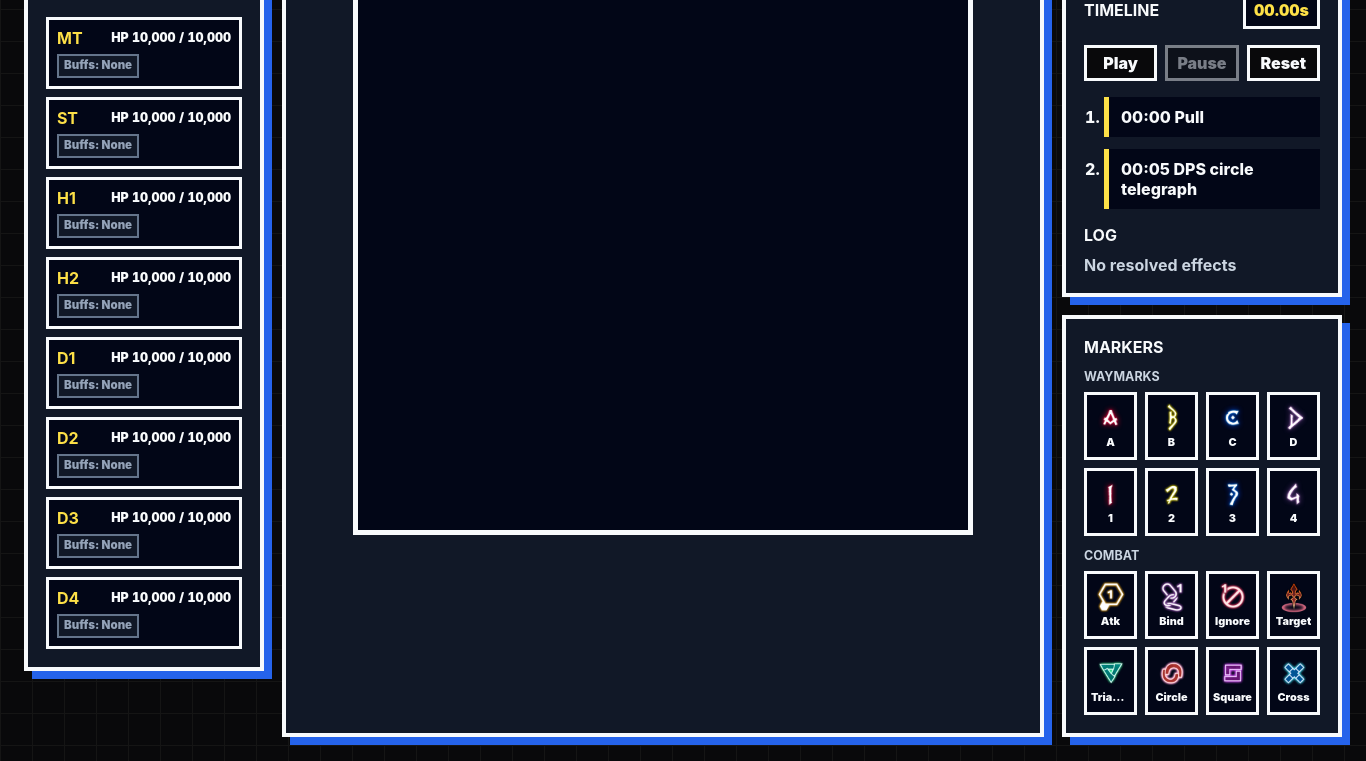
Test: App › keeps locally placed room markers through stale realtime movement snapshots
The width and height of the screenshot is (1366, 761).
(page scrolled)
Click the button "A": x=1110, y=426 [1084, 392, 1137, 460]
(page scrolled)
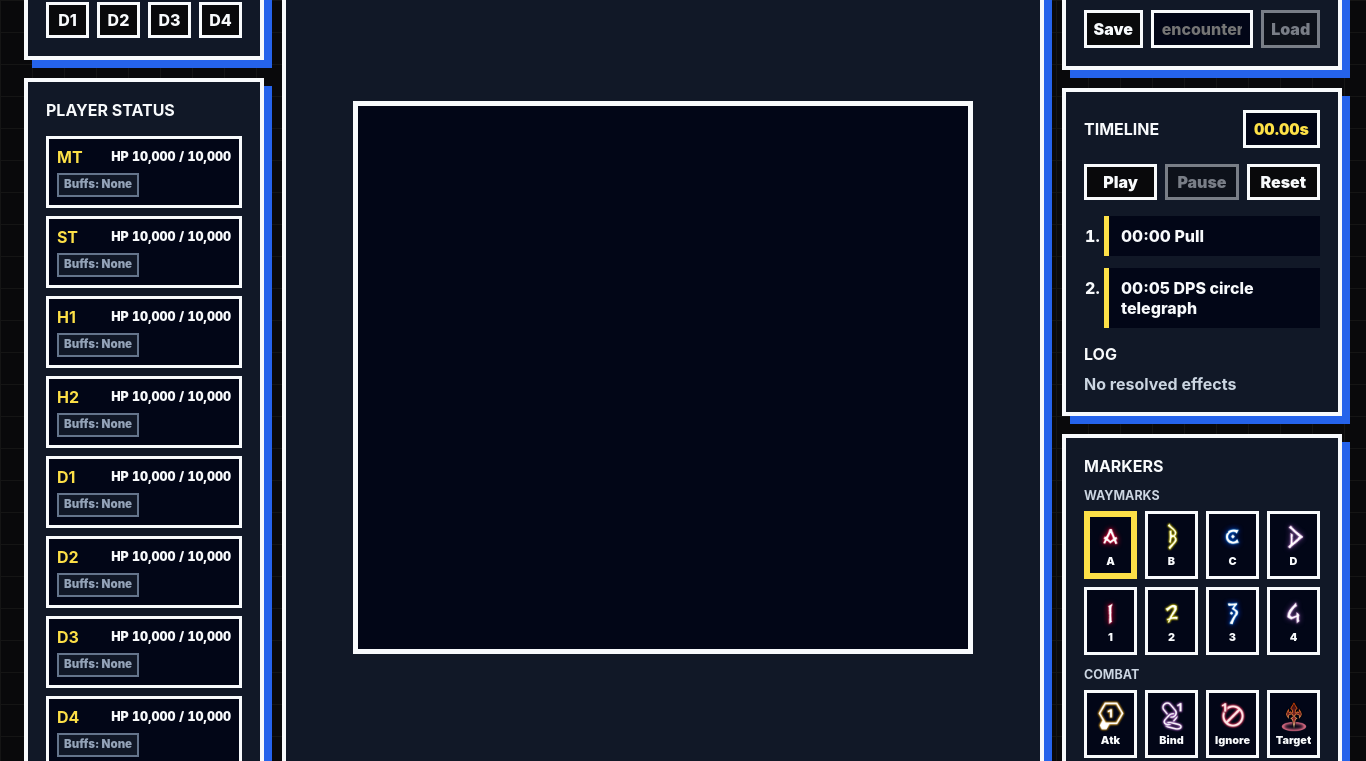
Click the drawing "Arena canvas": x=663, y=378 [353, 101, 973, 654]
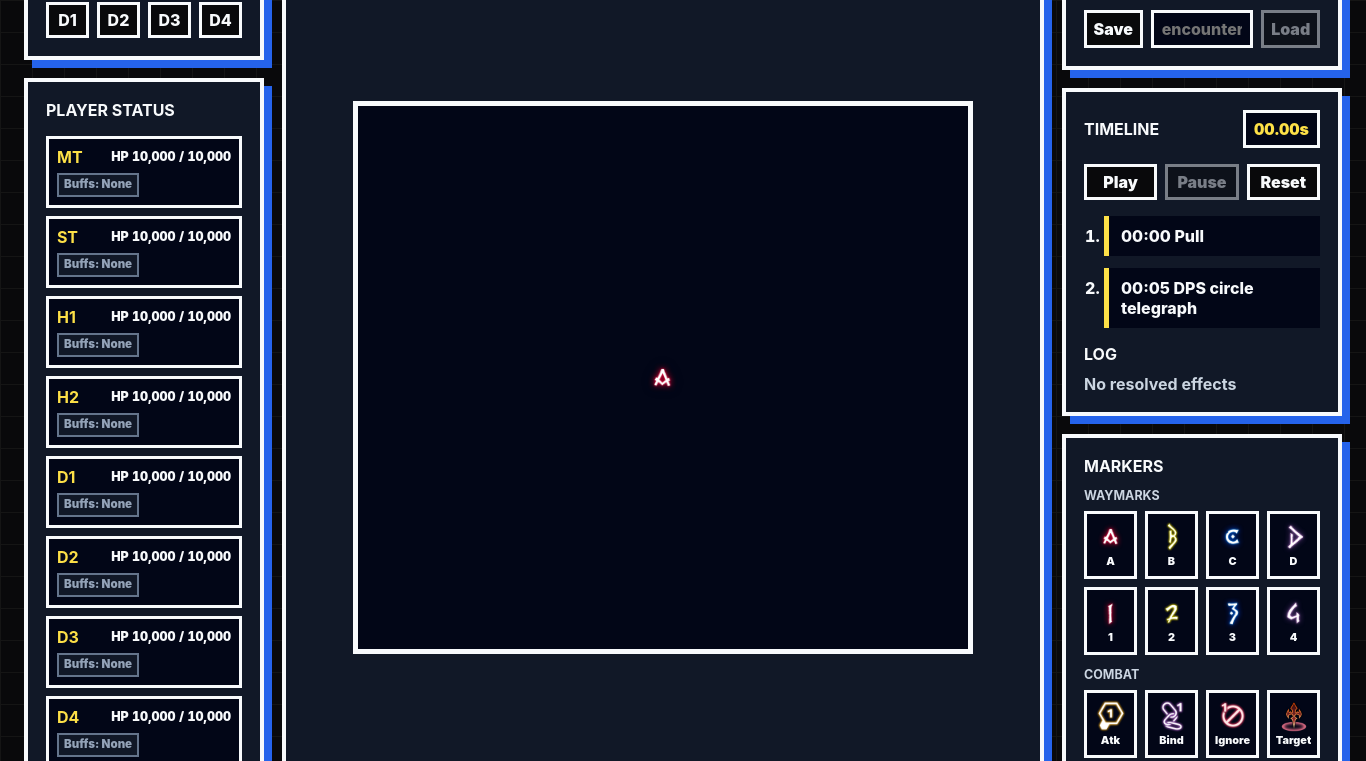
Now the picture named "Placed Waymark A" is shown, box [645, 360, 681, 396]
